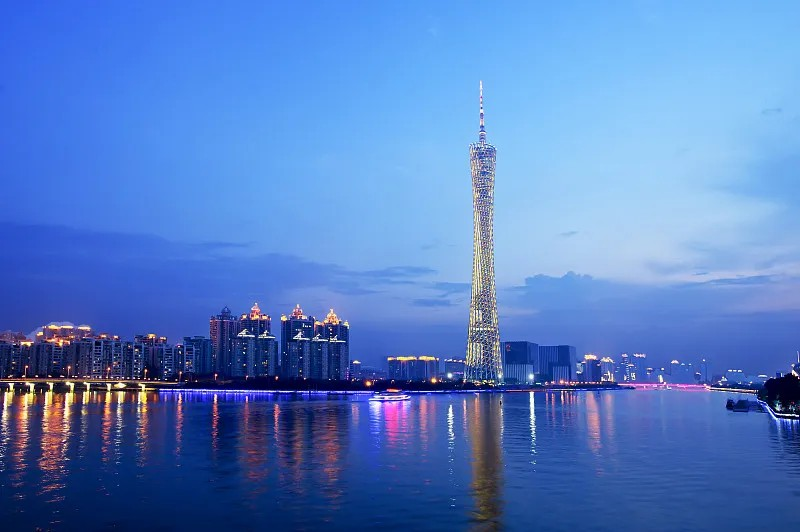Canton: (465, 78, 506, 385)
